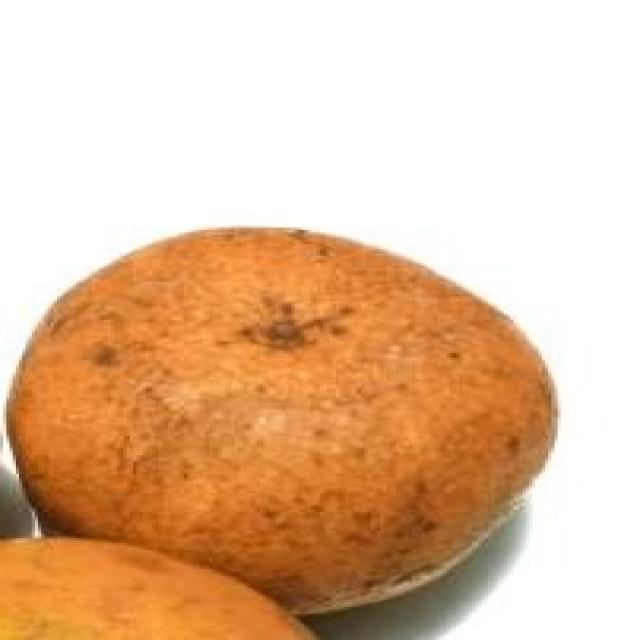overripe: (0, 217, 568, 616)
